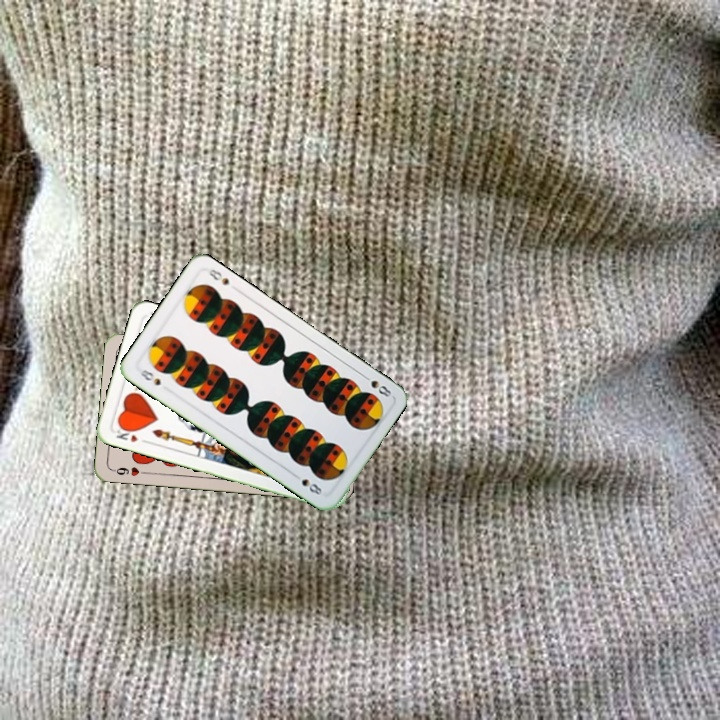H9: (108, 463, 149, 479)
HK: (112, 422, 140, 445)
S8: (358, 370, 394, 400), (136, 366, 163, 388)
